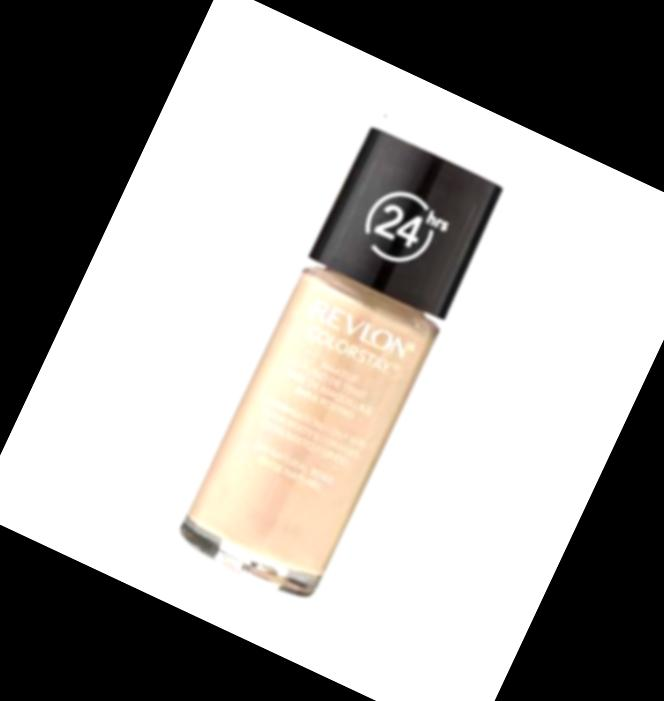cosmetic: (173, 124, 504, 601)
